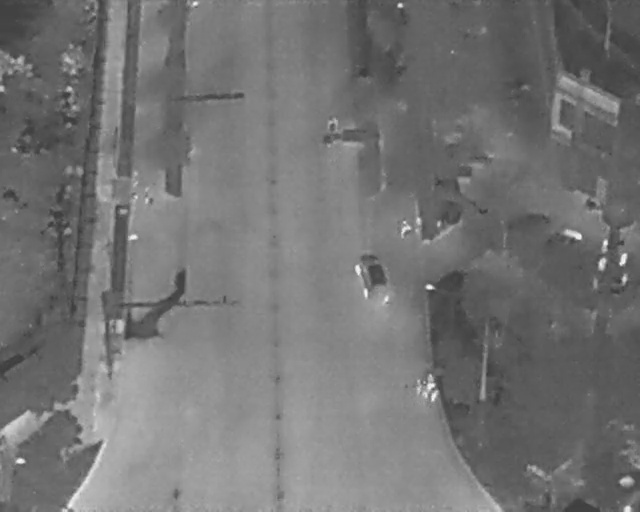Bicycle: (326, 117, 339, 132)
Car: (350, 249, 395, 311)
Person: (426, 385, 443, 404), (419, 379, 429, 399), (400, 220, 411, 238), (143, 190, 152, 204), (414, 379, 421, 394), (427, 372, 435, 385), (132, 191, 139, 204)
